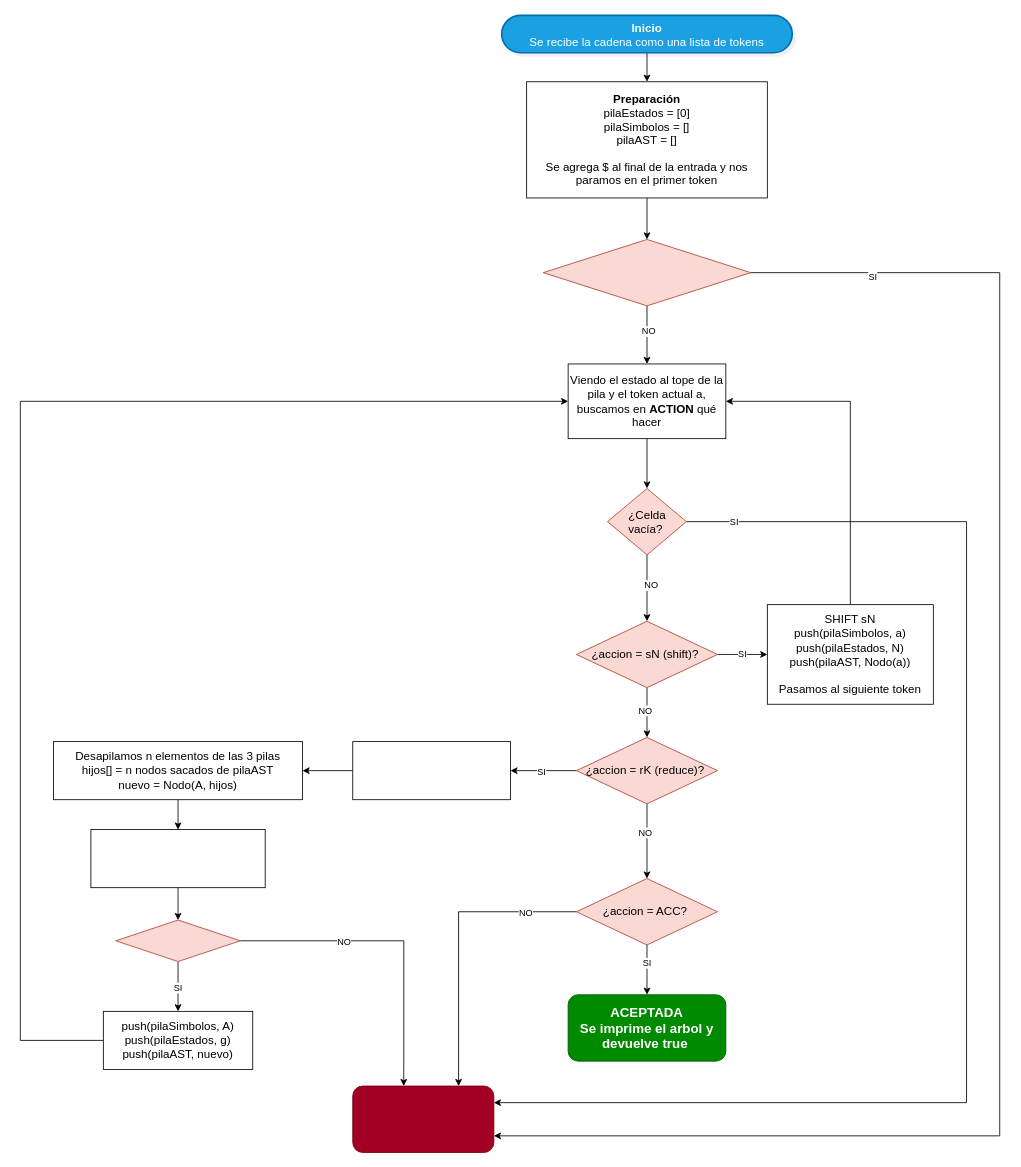
This 1021x1167 diagram has some shape labels left out. Each missing label, with the centre of its shape:
Buscamos en GOTO El estado al tope de la pila g = GOTO[t][A]: point (177, 858)
RECHAZADA Error de sintaxis en el token: point (423, 1118)
REDUCE rK Obtenemos la regla A -> ß n = longitud de ß: point (431, 770)
¿ Token vacío o igual a "$"?: point (646, 272)
¿g existe?: point (177, 940)
